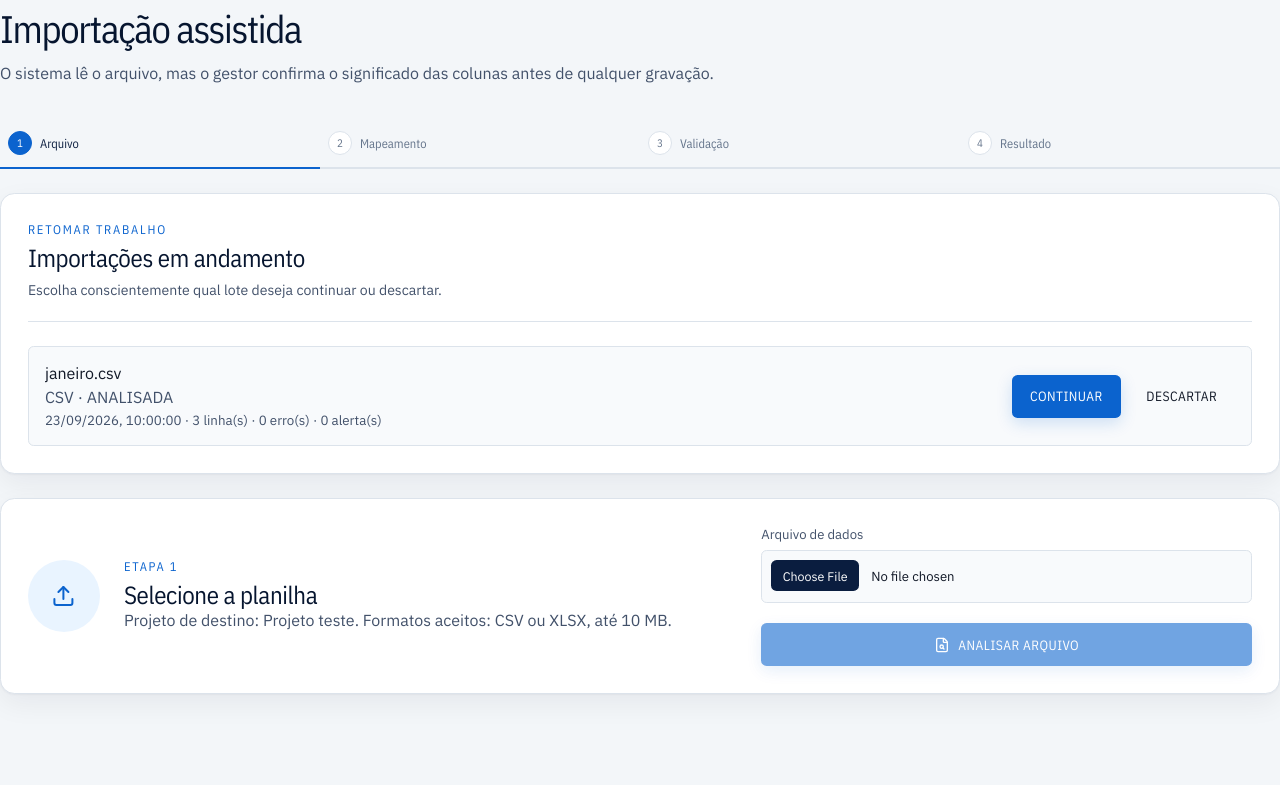
Scenario: retomada visual da importação › retoma lote sem mapeamento na etapa inicial sem revalidar
Click the button "CONTINUAR" at point(1066, 396), box [1012, 375, 1121, 418]
(page scrolled)
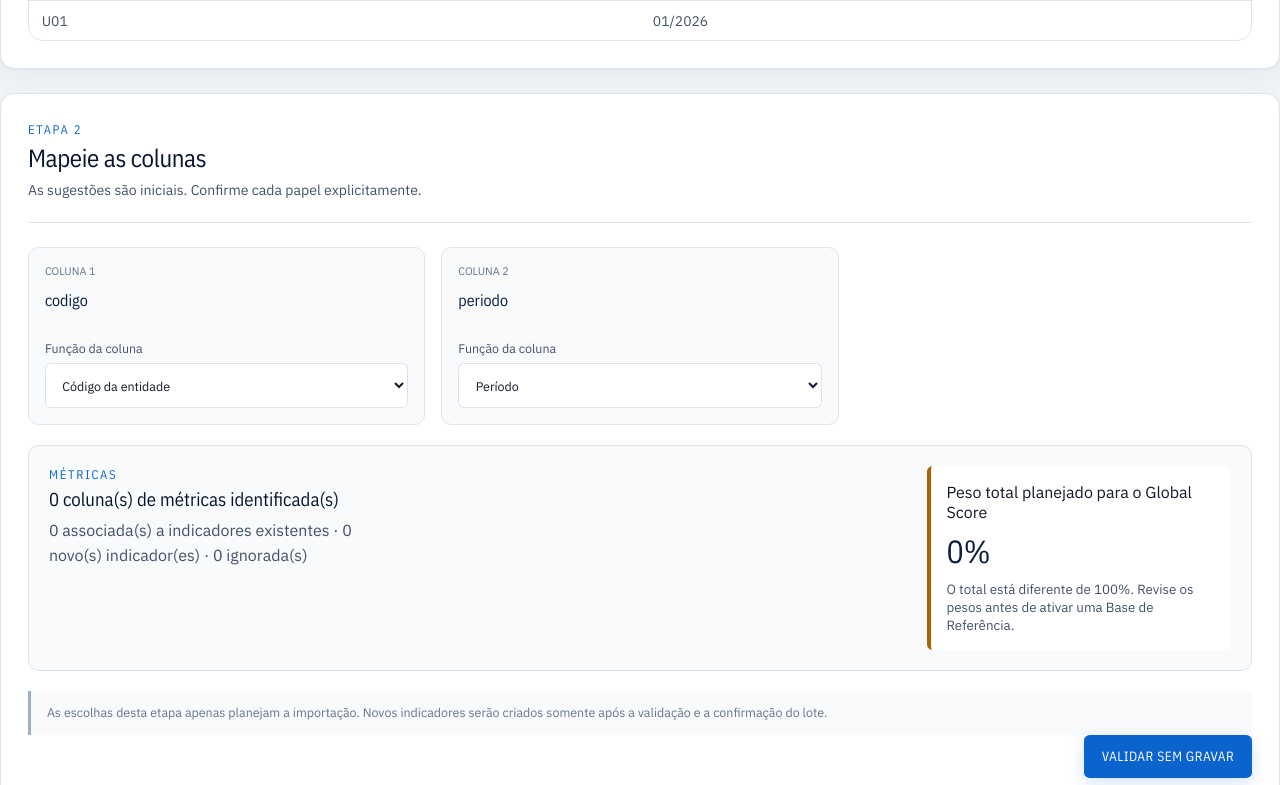
Now the heading "Mapeie as colunas" is shown, box [28, 142, 206, 174]
Now the dropdown named "Mapeamento da coluna codigo" shows "Código da entidade", box [45, 363, 408, 408]
